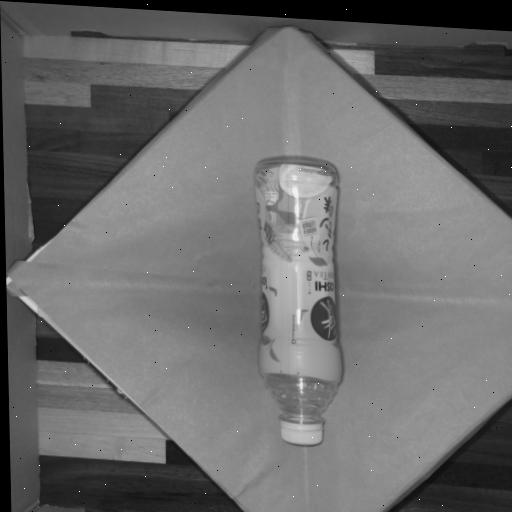bottle: (256, 160, 341, 444)
